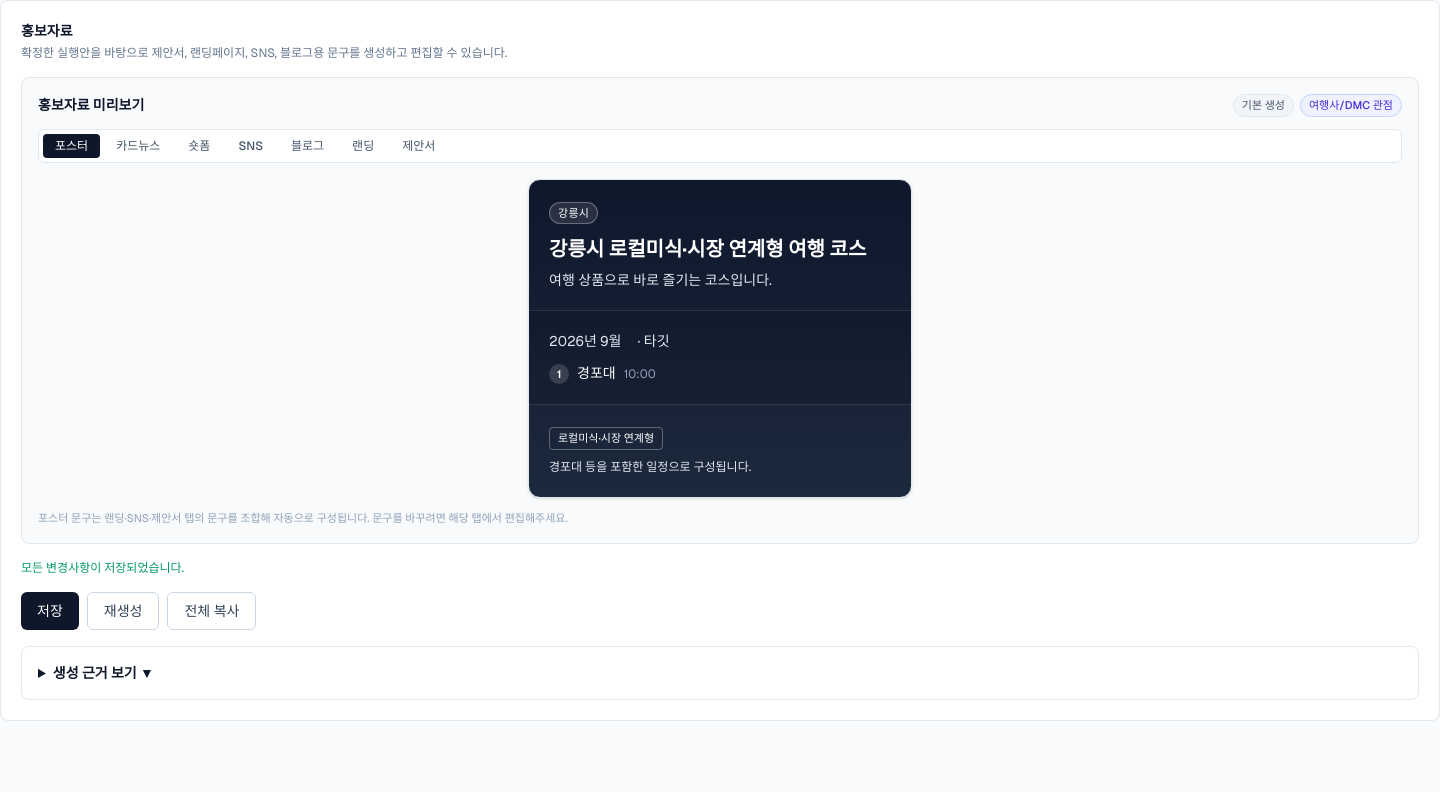
Test: 편집과 저장 › 문구 수정 시 dirty 상태가 활성화된다
Expected: the text "모든 변경사항이 저장되었습니다." is shown, top-left (21, 560), bottom-right (184, 576)
Click the tab "랜딩": coordinates (363, 146) top-left (340, 134), bottom-right (386, 158)
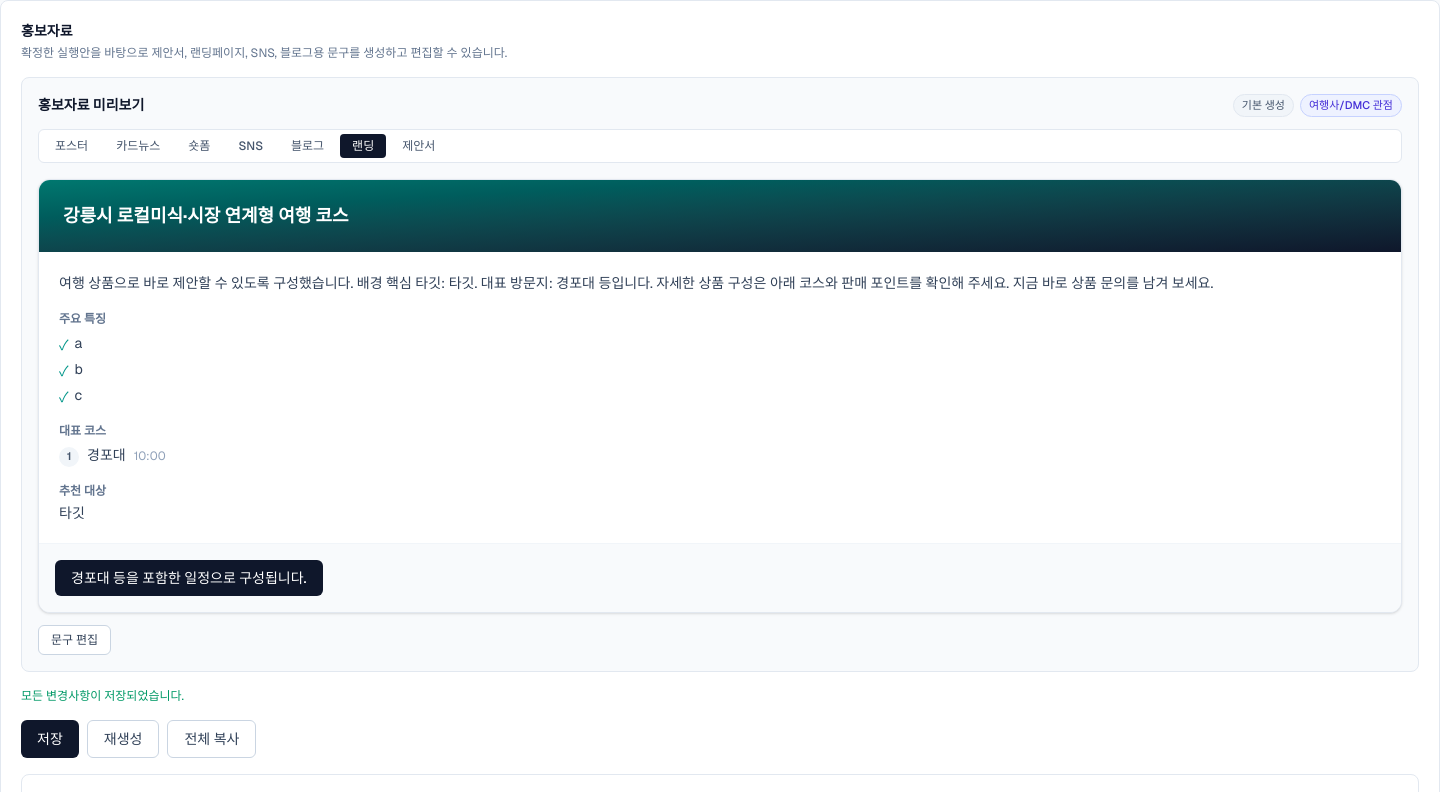
Click the button "문구 편집": coordinates (75, 640) top-left (38, 625), bottom-right (111, 655)
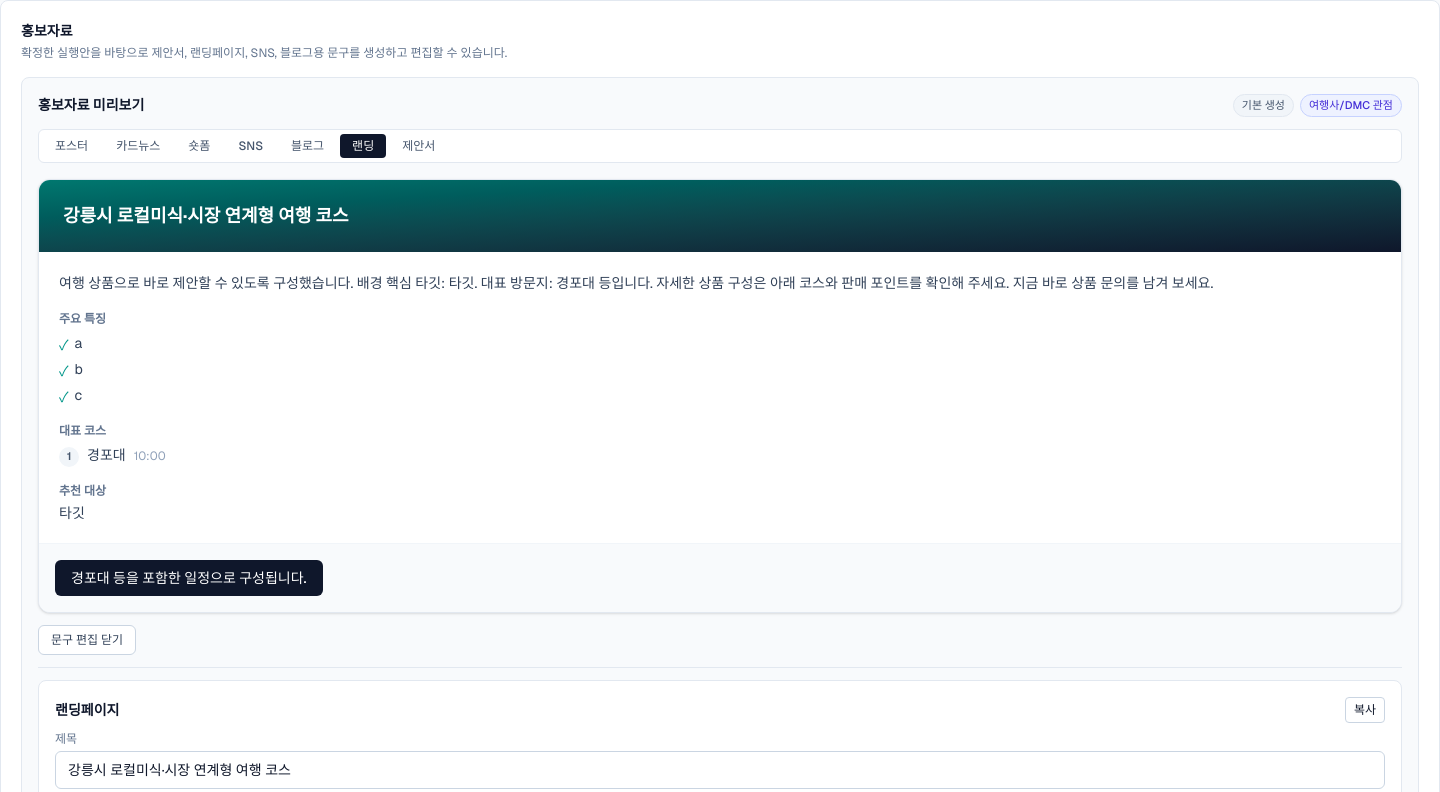
Replace the text in the field labelled "제목" with "수정된 제목": coordinates (720, 770) top-left (55, 751), bottom-right (1385, 789)
(page scrolled)
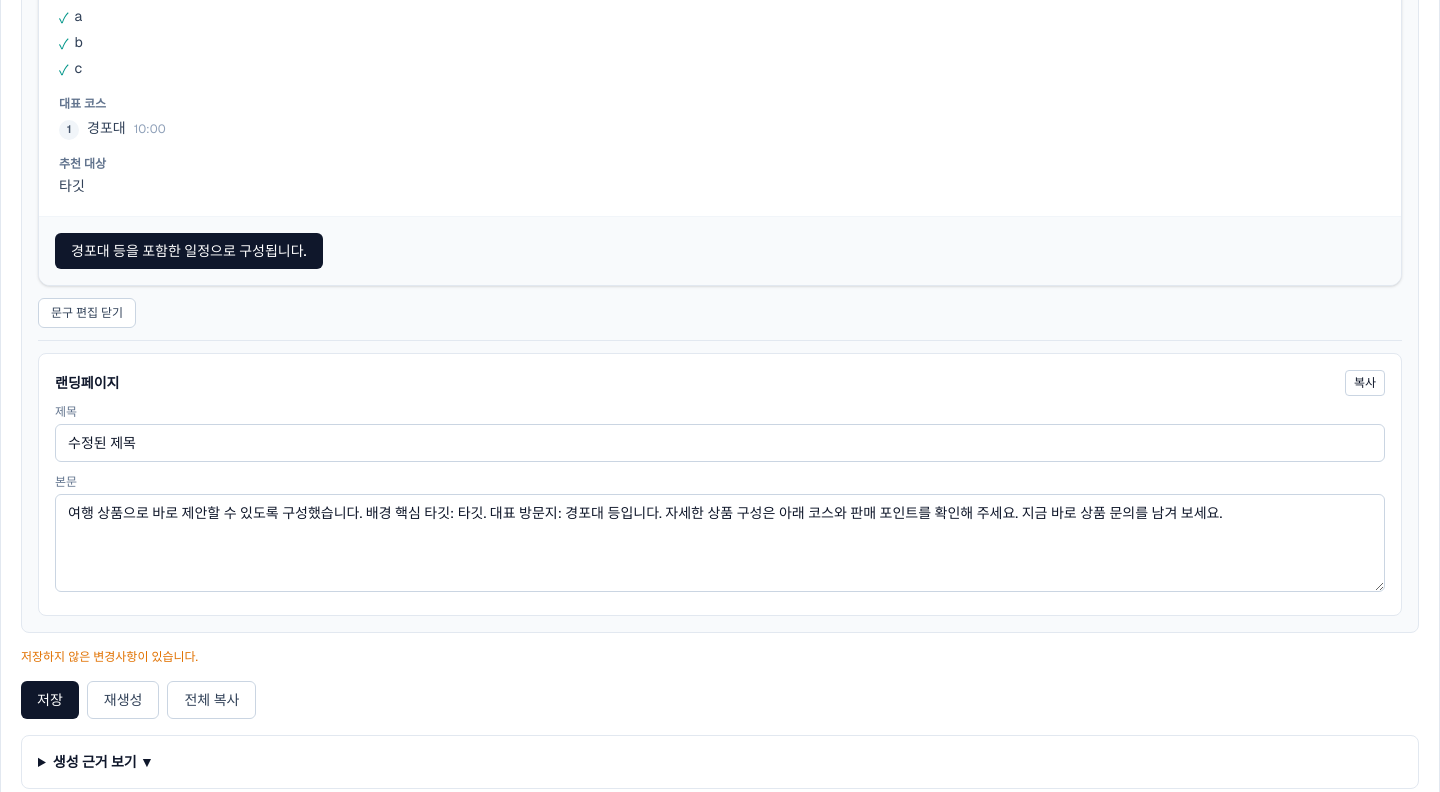
Expected: the text "저장하지 않은 변경사항이 있습니다." is shown, top-left (21, 649), bottom-right (198, 665)
